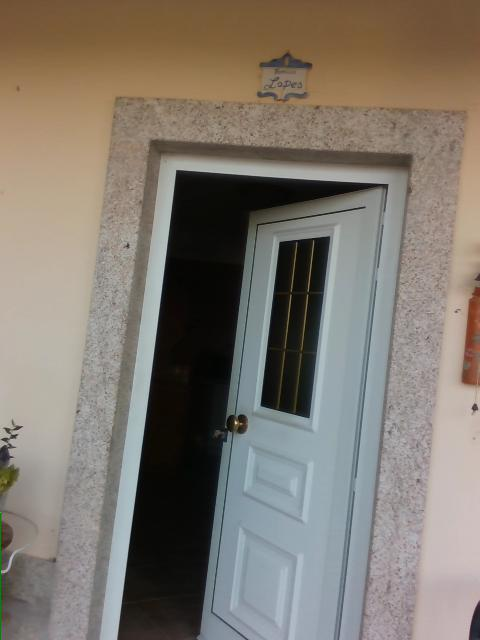semi_door: (112, 162, 391, 639)
